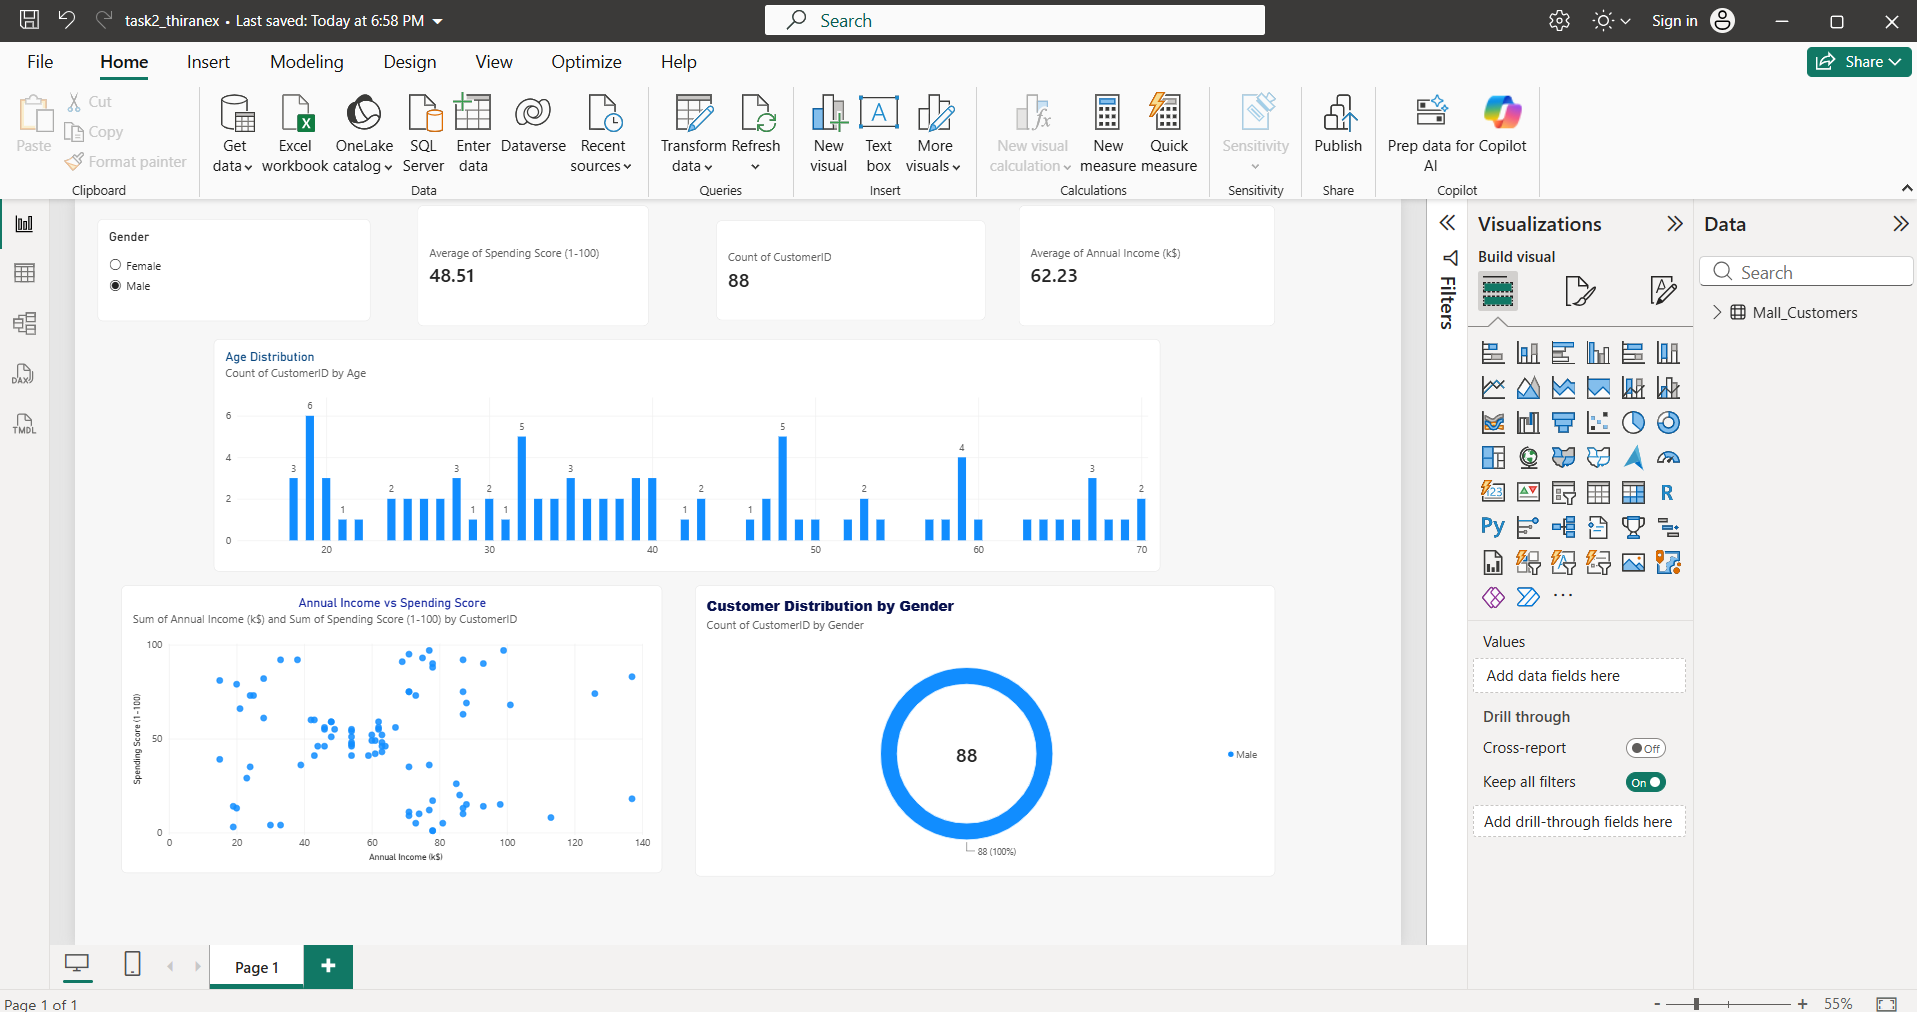

Layout of this report page (visuals, bound fields, positions):
{"tool":"powerbi","page":{"name":"Page 1","canvas":[1920,1080],"ordinal":0},"visuals":[{"type":"donutChart","title":"Customer Distribution by Gender","fields":{"Category":["Mall_Customers.Gender"],"Y":["CountNonNull(Mall_Customers.CustomerID)"]},"box":[898.3,558.3,840,421.7],"z":0},{"type":"scatterChart","title":"Annual Income vs Spending Score","fields":{"Category":["Mall_Customers.CustomerID"],"X":["Sum(Mall_Customers.Annual Income (k$))"],"Y":["Sum(Mall_Customers.Spending Score (1-100))"]},"box":[66.7,558.3,783.3,416.7],"z":1000},{"type":"clusteredColumnChart","title":"Age Distribution","fields":{"Category":["Mall_Customers.Age"],"Y":["CountNonNull(Mall_Customers.CustomerID)"]},"box":[201.7,203.3,1370,336.7],"z":2000},{"type":"listSlicer","fields":{"Values":["Mall_Customers.Gender"]},"box":[33.3,28.3,395,148.3],"z":3000},{"type":"cardVisual","title":"Total Customers","fields":{"Data":["CountNonNull(Mall_Customers.CustomerID)"]},"box":[928.3,31.7,390,145],"z":4000},{"type":"cardVisual","fields":{"Data":["Avg(Mall_Customers.Annual Income (k$))"]},"box":[1366.7,8.3,371.7,175],"z":5000},{"type":"cardVisual","title":"Average Spending Score","fields":{"Data":["Avg(Mall_Customers.Spending Score (1-100))"]},"box":[495,8.3,335,175],"z":5001}]}

Visuals, with their boxes on the page's 1920x1080 design canvas (x1, y1, x2, y2). These are canvas units, not pixel positions in the 1917x1012 screenshot, which may show the page scaled, cropped or inside an application window:
"Customer Distribution by Gender" donutChart: detection(898, 558, 1738, 980)
"Annual Income vs Spending Score" scatterChart: detection(67, 558, 850, 975)
"Age Distribution" clusteredColumnChart: detection(202, 203, 1572, 540)
listSlicer - Mall_Customers.Gender: detection(33, 28, 428, 177)
"Total Customers" cardVisual: detection(928, 32, 1318, 177)
cardVisual - Avg(Mall_Customers.Annual Income (k$)): detection(1367, 8, 1738, 183)
"Average Spending Score" cardVisual: detection(495, 8, 830, 183)
